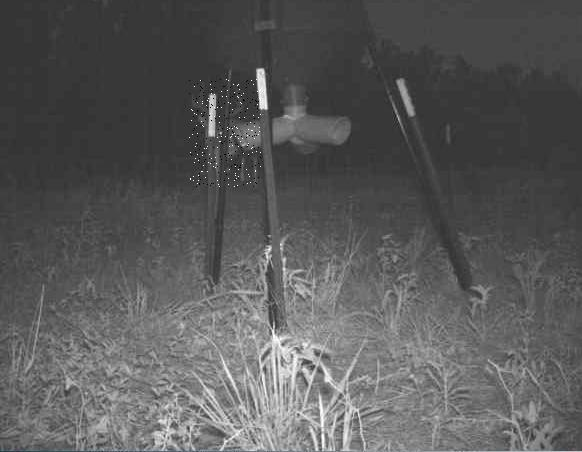Deer: (189, 80, 261, 188)
